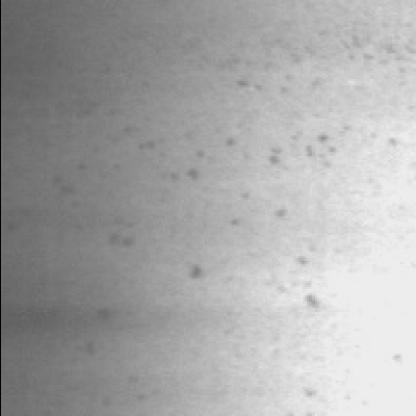pitted_surface: (112, 41, 406, 196)
